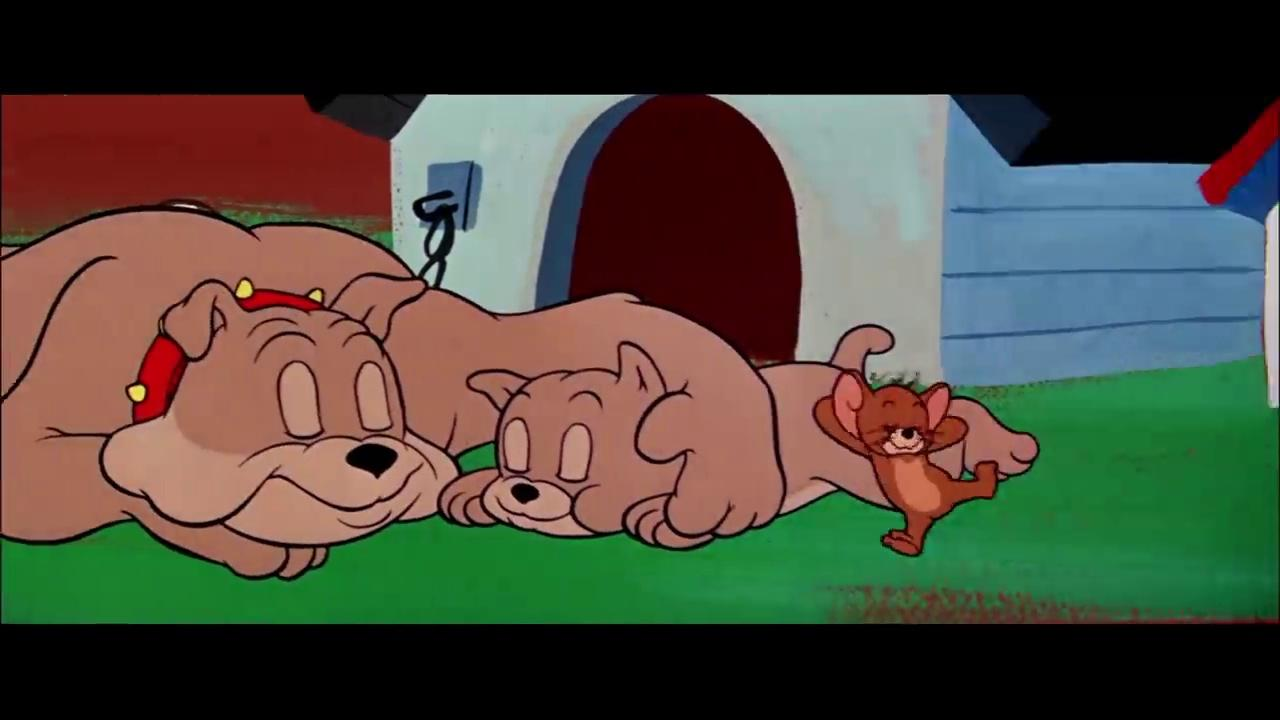Jerry: (812, 366, 1001, 558)
